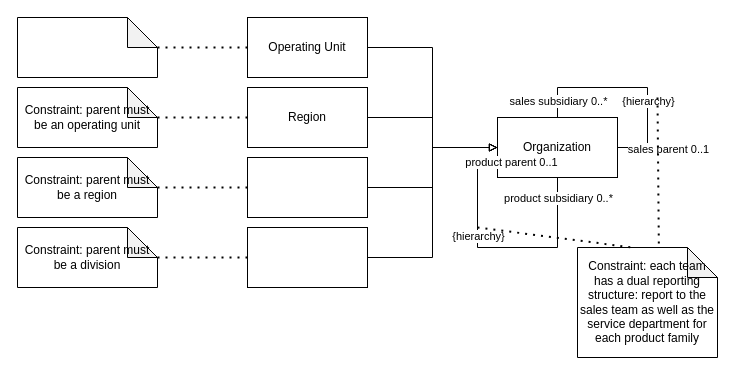
This 735x375 diagram has some shape labels left out. The centre of each missing label's shape, as x and y in pixels:
Constraint: cannot have a parent: [87,47]
Division: [307,187]
Sales Office: [307,257]
